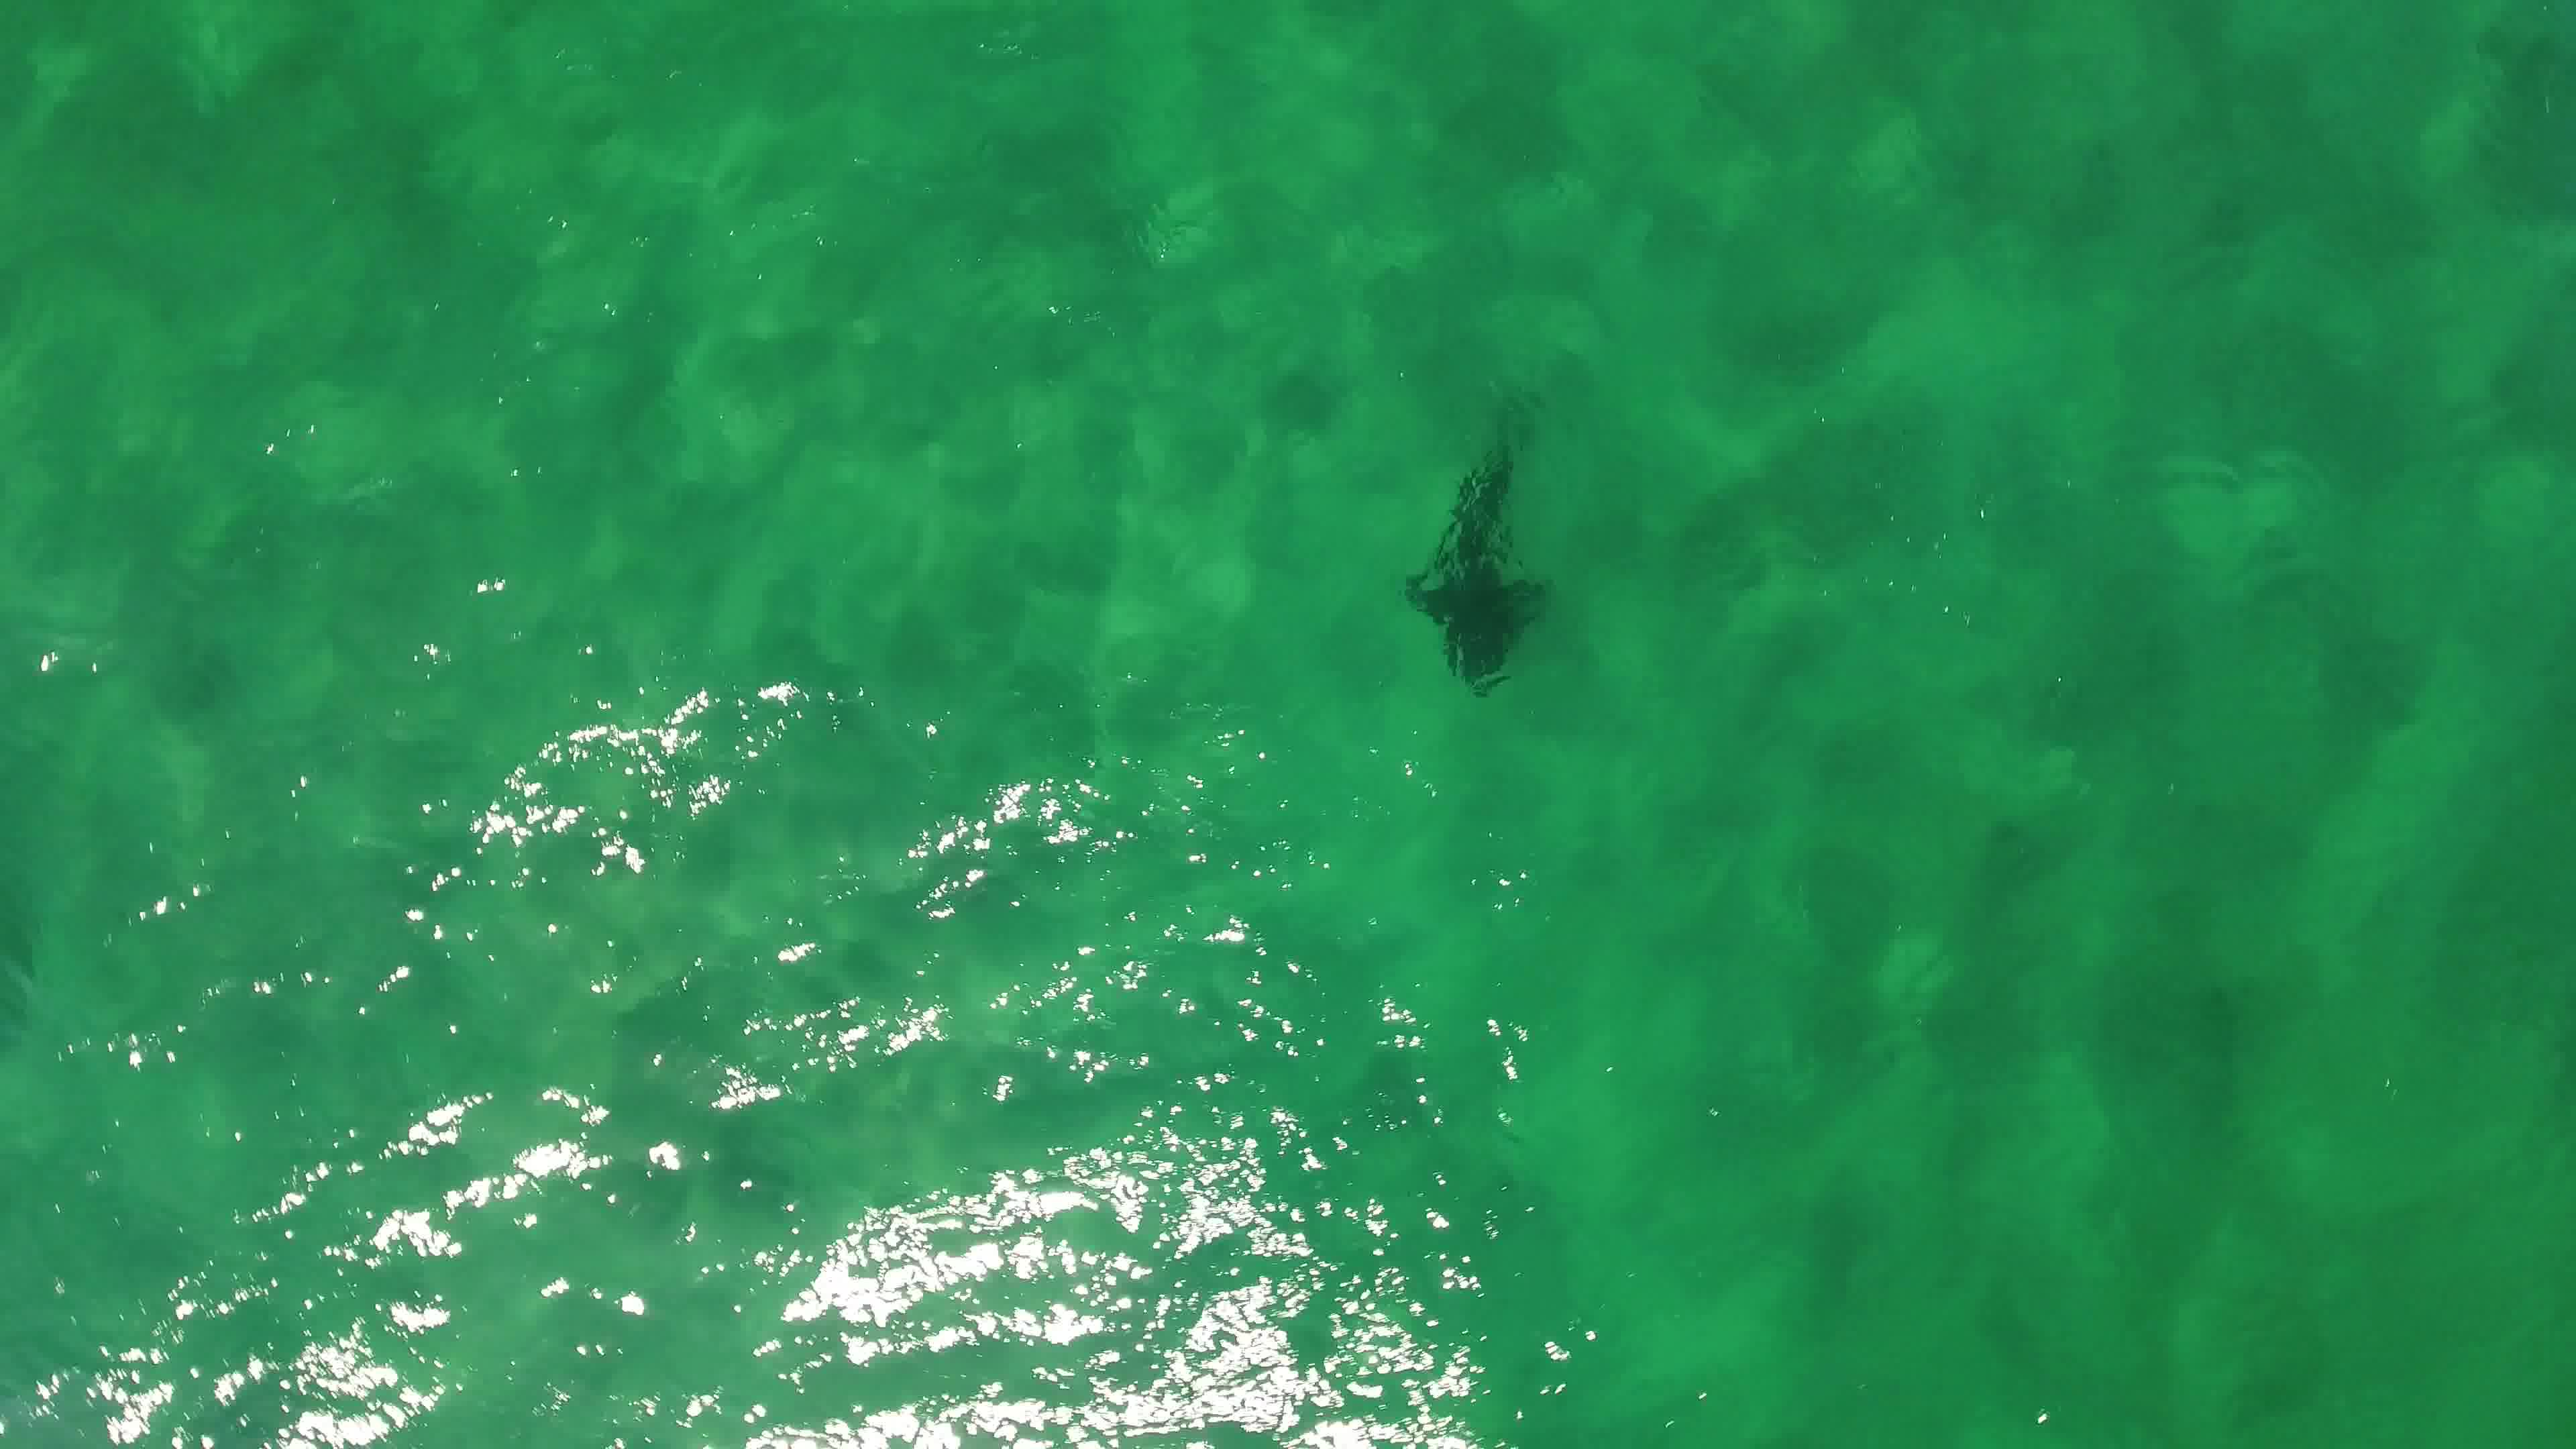shark: (1394, 387, 1560, 708)
